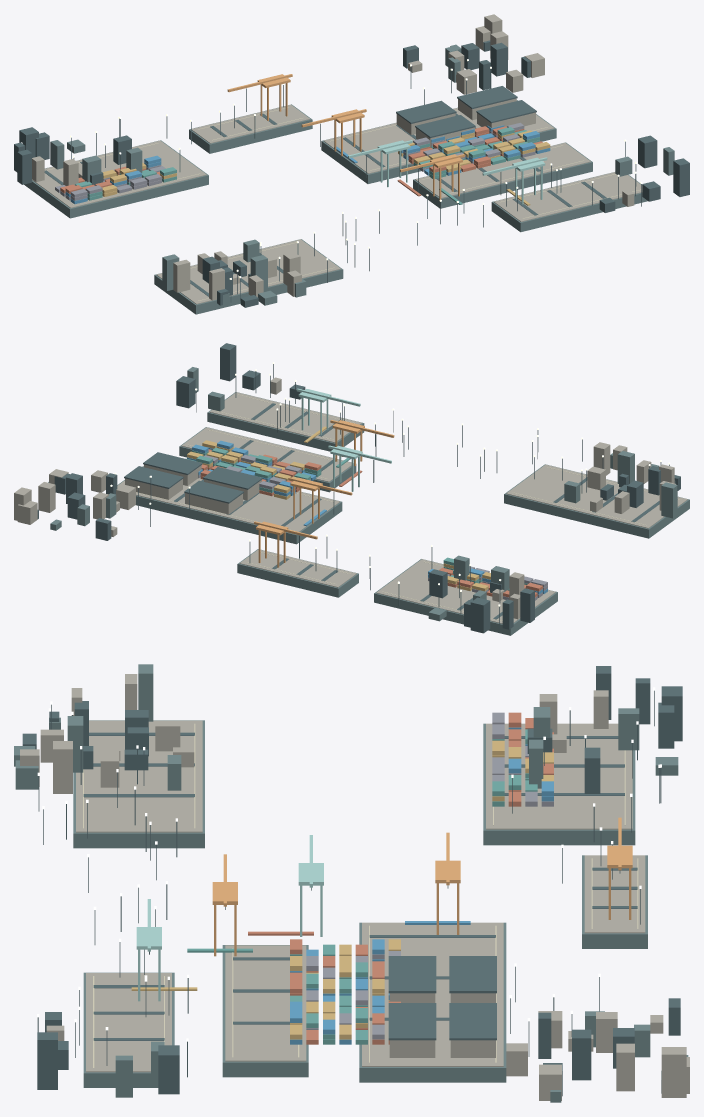
The model's file is harbor_base.glb.
The picture shows the model from 3 angles, top to bottom: view 1: azimuth 30°, elevation 25°; view 2: azimuth 150°, elevation 25°; view 3: azimuth 270°, elevation 25°; orthographic projection. The views are drawn at different scales.
Visible parts, largest first — view 1: QUAY_2_SURFACE, QUAY_1_SURFACE, QUAY_4_SURFACE, QUAY_3_SURFACE, QUAY_0_SURFACE, QUAY_3_WALL, QUAY_1_WALL, QUAY_5_SURFACE, QUAY_4_WALL, QUAY_2_WALL, QUAY_5_WALL, QUAY_0_WALL (+11 smaller); view 2: QUAY_4_SURFACE, QUAY_2_SURFACE, QUAY_0_SURFACE, QUAY_3_SURFACE, QUAY_1_SURFACE, QUAY_0_WALL, QUAY_4_WALL, QUAY_5_SURFACE, QUAY_2_WALL, QUAY_3_WALL, QUAY_5_WALL, WAREHOUSE_ROOF_0 (+15 smaller); view 3: QUAY_3_SURFACE, QUAY_4_SURFACE, QUAY_0_SURFACE, QUAY_1_SURFACE, QUAY_2_SURFACE, QUAY_5_SURFACE, QUAY_3_WALL, QUAY_0_WALL, QUAY_4_WALL, QUAY_1_WALL, WAREHOUSE_ROOF_0, WAREHOUSE_ROOF_1 (+26 smaller).
Part boxes in pixels (x1,y1,x2,y2): QUAY_2_SURFACE: (494, 172, 642, 221); QUAY_1_SURFACE: (415, 142, 590, 198); QUAY_4_SURFACE: (156, 239, 340, 304); QUAY_3_SURFACE: (32, 140, 206, 208); QUAY_0_SURFACE: (324, 100, 554, 173); QUAY_3_WALL: (24, 140, 208, 218); QUAY_1_WALL: (413, 142, 592, 208); QUAY_5_SURFACE: (191, 104, 309, 143); QUAY_4_WALL: (154, 239, 343, 314); QUAY_2_WALL: (491, 172, 647, 232); QUAY_5_WALL: (189, 104, 312, 153); QUAY_0_WALL: (321, 100, 556, 183); QUAY_4_SURFACE: (506, 464, 687, 528); QUAY_2_SURFACE: (210, 392, 361, 442); QUAY_0_SURFACE: (117, 466, 340, 531); QUAY_3_SURFACE: (376, 559, 555, 623); QUAY_1_SURFACE: (181, 427, 353, 482); QUAY_0_WALL: (117, 466, 342, 544); QUAY_4_WALL: (504, 464, 689, 538); QUAY_5_SURFACE: (239, 549, 356, 587); QUAY_2_WALL: (207, 392, 364, 451); QUAY_3_WALL: (374, 559, 557, 635); QUAY_5_WALL: (237, 549, 358, 597); WAREHOUSE_ROOF_0: (203, 467, 262, 489); QUAY_3_SURFACE: (486, 723, 632, 829); QUAY_4_SURFACE: (76, 720, 202, 832); QUAY_0_SURFACE: (362, 922, 503, 1066); QUAY_1_SURFACE: (225, 945, 306, 1061); QUAY_2_SURFACE: (86, 973, 171, 1072); QUAY_5_SURFACE: (584, 855, 645, 933); QUAY_3_WALL: (483, 723, 635, 845); QUAY_0_WALL: (359, 922, 506, 1082); QUAY_4_WALL: (73, 720, 204, 848); QUAY_1_WALL: (222, 945, 308, 1077); WAREHOUSE_ROOF_0: (388, 956, 436, 993); WAREHOUSE_ROOF_1: (388, 1003, 436, 1040).
Size of the model in its own units: 183 by 16.48 by 134.
